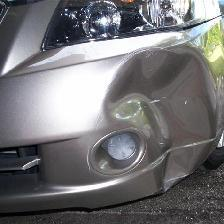bumper_dent: (66, 31, 224, 188)
